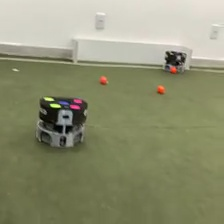ball: (98, 74, 108, 84), (156, 84, 166, 94), (170, 65, 178, 73)
goal: (72, 36, 192, 71)
robot: (34, 94, 89, 148), (163, 49, 188, 73)
